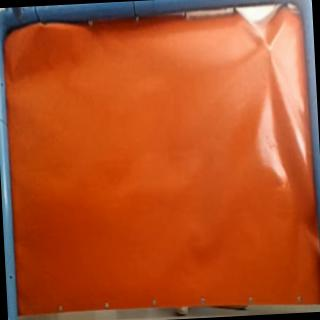Hit-hRxx: (260, 42, 276, 56)
